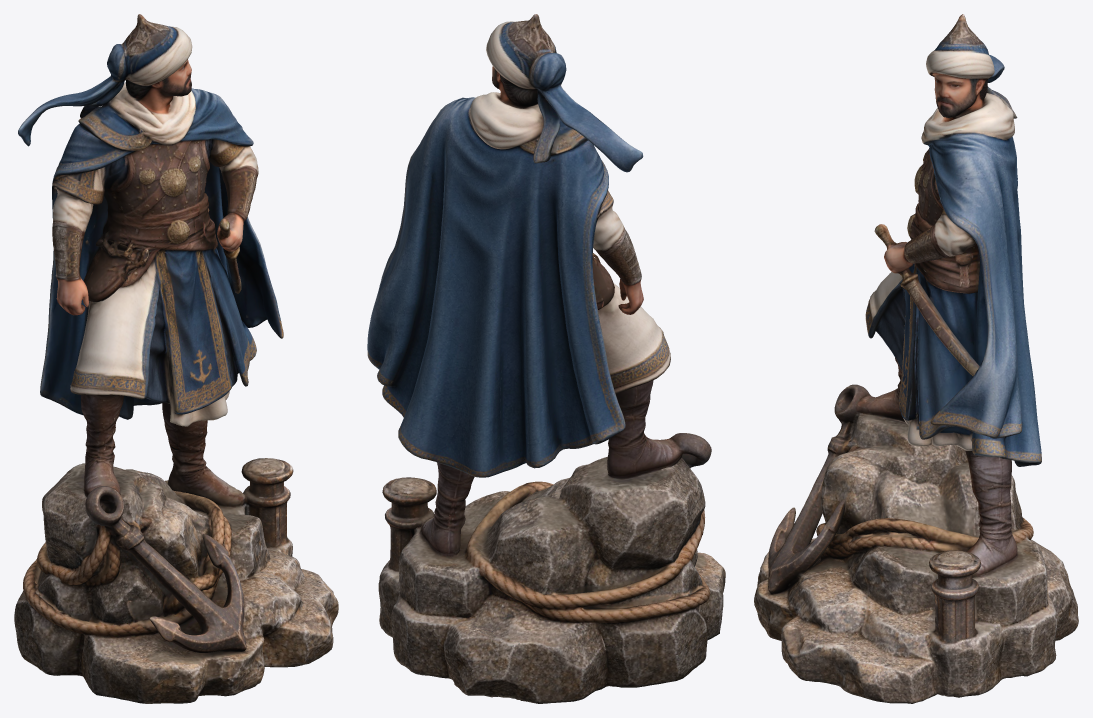
File: cakabey.glb
The picture shows the model from 3 angles, left to right: view 1: azimuth 30°, elevation 25°; view 2: azimuth 150°, elevation 25°; view 3: azimuth 270°, elevation 25°; orthographic projection. The views are drawn at different scales.
Visible parts, largest first — view 1: tripo_node_c12cb24b-cd49-4b06-86ed-a5c9037b6bf9; view 2: tripo_node_c12cb24b-cd49-4b06-86ed-a5c9037b6bf9; view 3: tripo_node_c12cb24b-cd49-4b06-86ed-a5c9037b6bf9.
Boxes of the visible parts, x1,y1,x2,y2 form: tripo_node_c12cb24b-cd49-4b06-86ed-a5c9037b6bf9: (14,14,338,703); tripo_node_c12cb24b-cd49-4b06-86ed-a5c9037b6bf9: (367,14,725,703); tripo_node_c12cb24b-cd49-4b06-86ed-a5c9037b6bf9: (754,14,1078,703).
Size of the model in its own units: 0.4848 by 0.9692 by 0.4655.
Materials: 1 (1 with a texture image).
